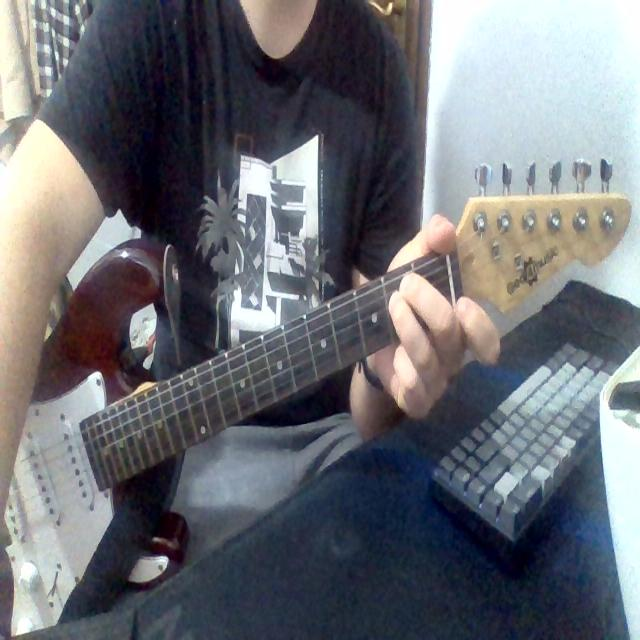Em: (374, 273, 492, 405)
